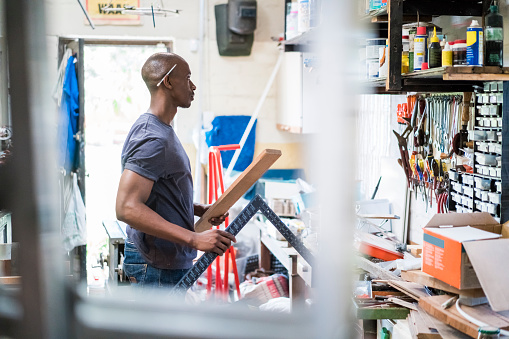em pe: (108, 51, 212, 287)
